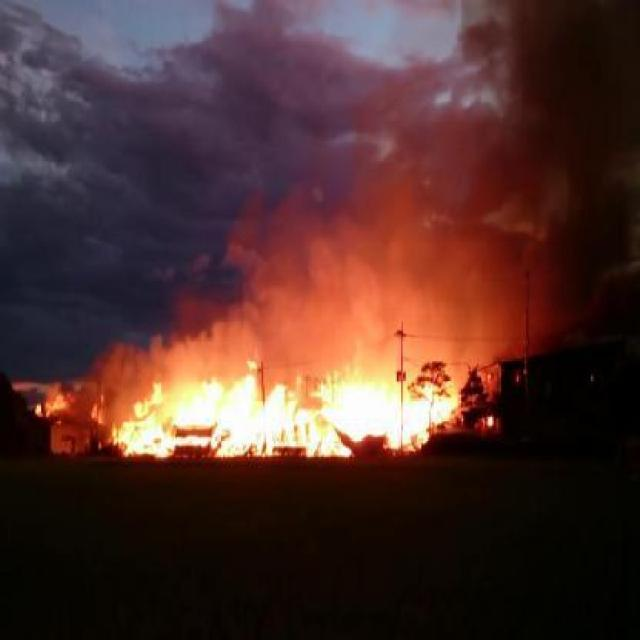Fire: (108, 353, 462, 461), (33, 382, 72, 420), (88, 390, 106, 424), (487, 412, 493, 428)
